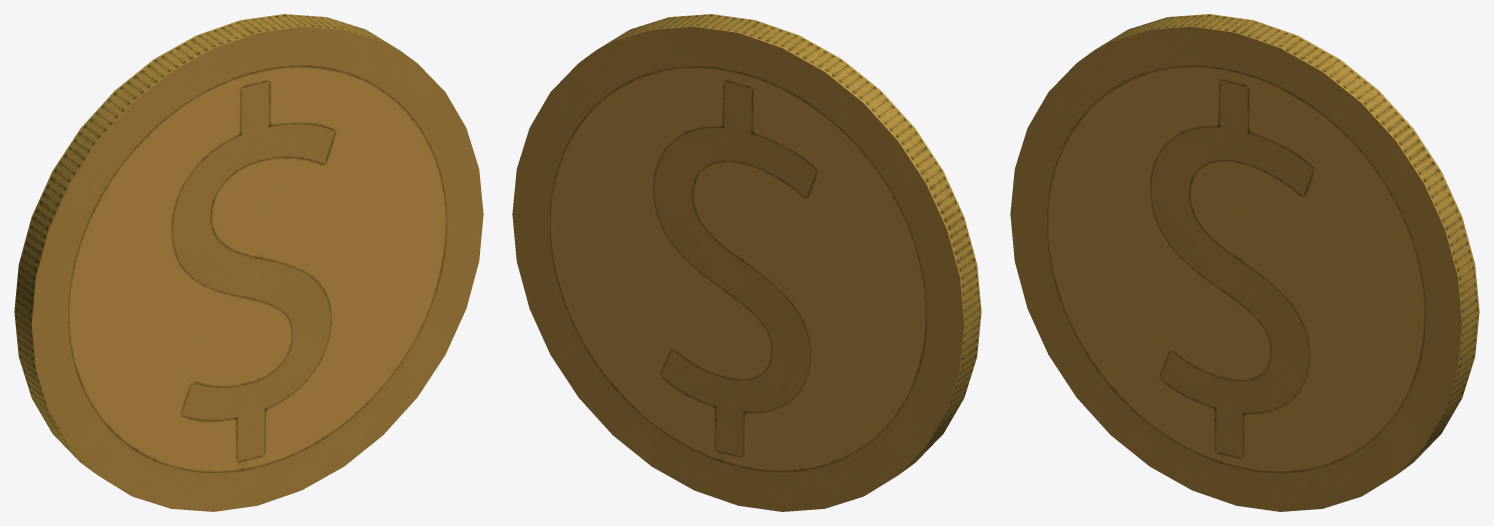
The model's file is gold_coin_0001.fbx.
3 renders of one model, left to right at view 1: azimuth 30°, elevation 25°; view 2: azimuth 150°, elevation 25°; view 3: azimuth 330°, elevation 25°, orthographic.
Visible parts, largest first — view 1: Gold Coin; view 2: Gold Coin; view 3: Gold Coin.
Boxes of the visible parts, x1,y1,x2,y2 form: Gold Coin: [14, 14, 483, 511]; Gold Coin: [512, 14, 981, 511]; Gold Coin: [1010, 14, 1479, 511].
Size of the model in its own units: 2.67 by 2.67 by 0.1776.
1 material, 1 textured.
